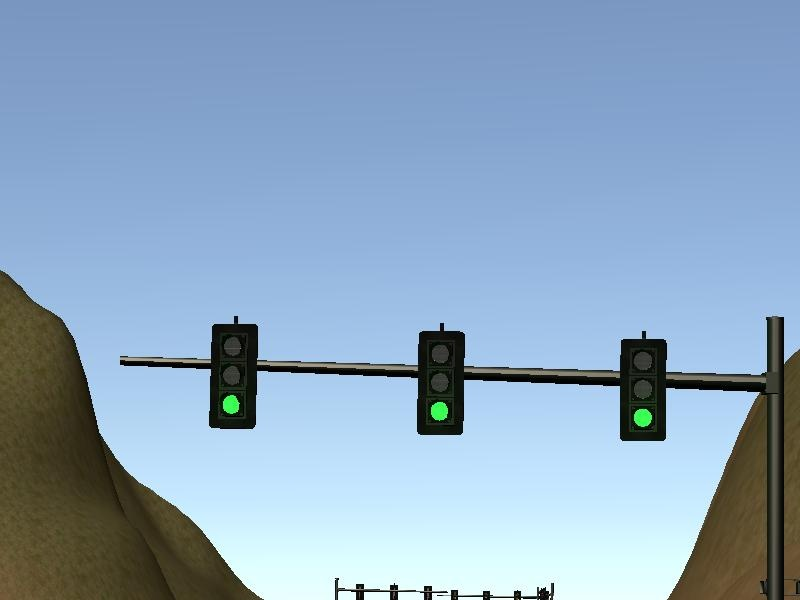green: (612, 333, 673, 447), (411, 324, 468, 443), (206, 319, 262, 440)
